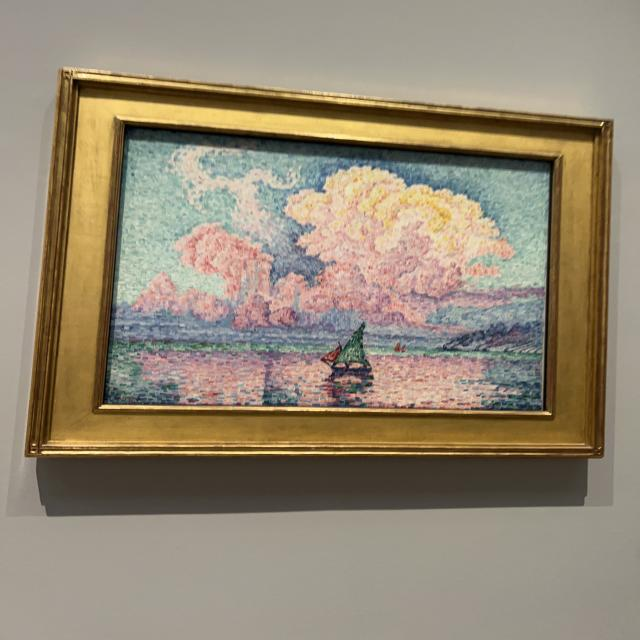sunrise: (105, 132, 543, 408)
